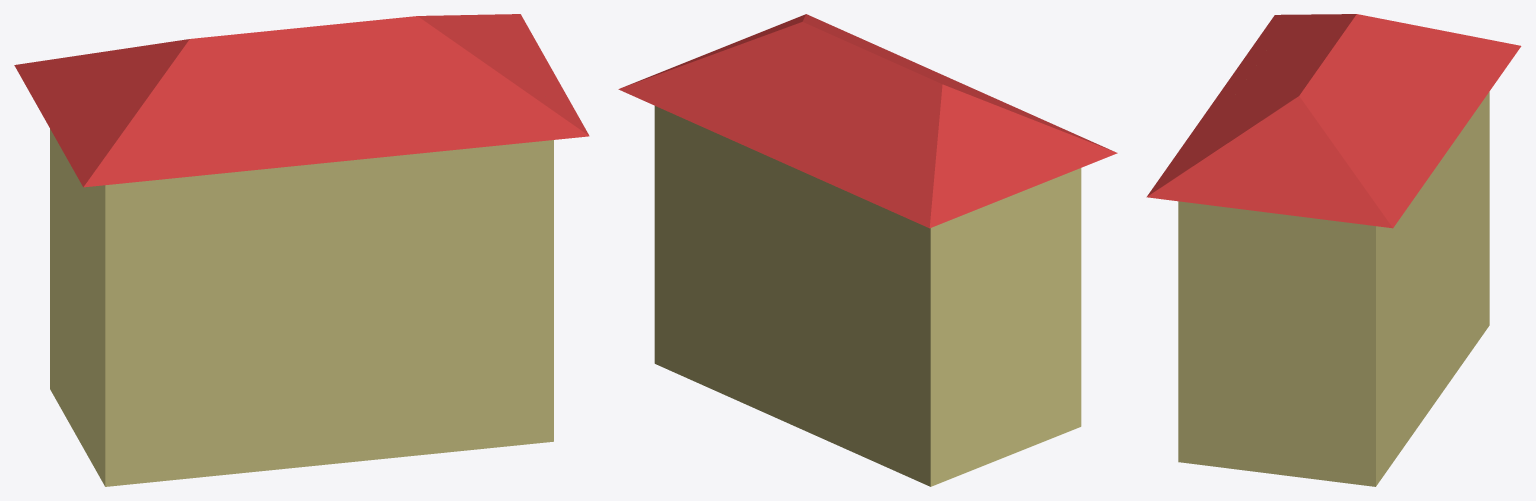
3 renders of one model, left to right at view 1: azimuth 30°, elevation 25°; view 2: azimuth 150°, elevation 25°; view 3: azimuth 270°, elevation 25°, orthographic. The views are drawn at different scales.
Parts seen in each view (by area): view 1: group_5, group_3, group_4; view 2: group_5, group_3, group_4; view 3: group_5, group_3, group_4.
Part boxes in pixels (x1,y1,x2,y2): group_5: [50, 129, 553, 486]; group_3: [51, 14, 588, 186]; group_4: [14, 59, 588, 187]; group_5: [654, 106, 1081, 486]; group_3: [618, 15, 1117, 227]; group_4: [620, 14, 1116, 228]; group_5: [1178, 92, 1489, 486]; group_3: [1148, 14, 1520, 228]; group_4: [1146, 14, 1521, 225].
Size of the model in its own units: 19.69 by 14.63 by 14.54.
